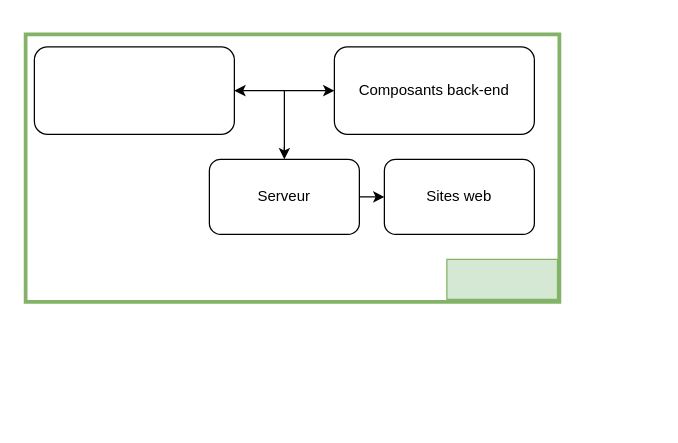
Some shapes in this 678 by 443 pixel diagram are drawn without their labels. The centre of each missing label's shape, as x and y in pixels:
Composants front-end: [133,90]
WebSonic: [502,278]
